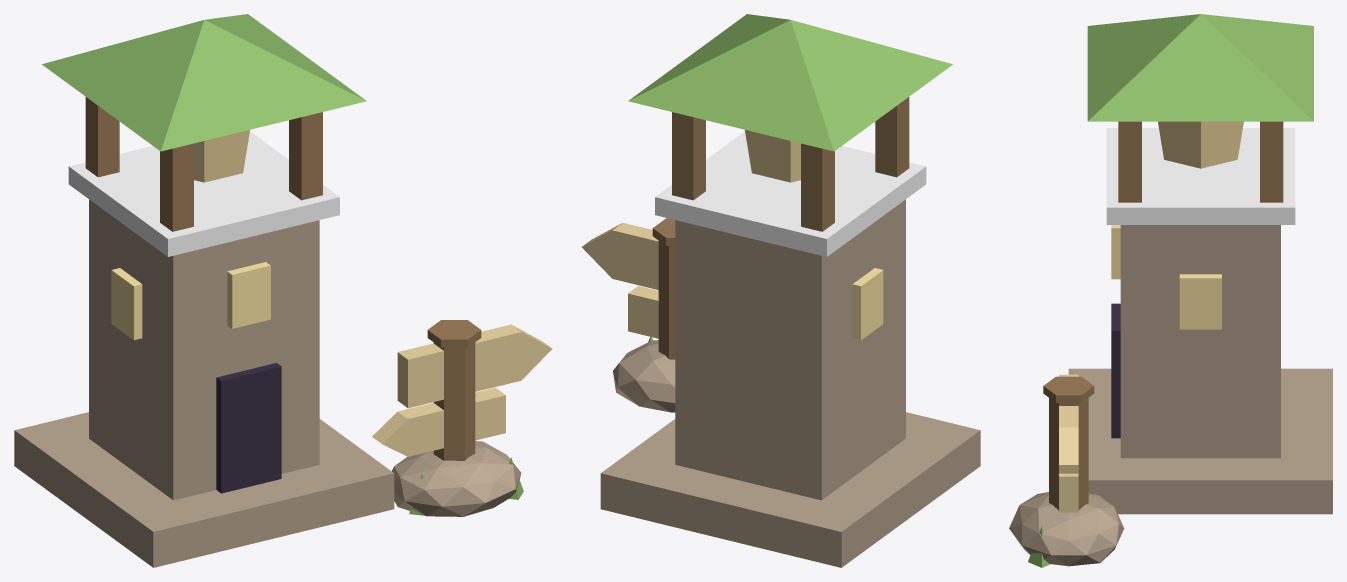
Rendered from meadow-landmark-s2c.glb.
The picture shows the model from 3 angles, left to right: view 1: azimuth 30°, elevation 25°; view 2: azimuth 150°, elevation 25°; view 3: azimuth 270°, elevation 25°; orthographic projection. The views are drawn at different scales.
Visible parts, largest first — view 1: meadow-landmark-s2c; view 2: meadow-landmark-s2c; view 3: meadow-landmark-s2c.
Boxes of the visible parts, x1,y1,x2,y2 form: meadow-landmark-s2c: [14, 14, 552, 567]; meadow-landmark-s2c: [582, 14, 980, 567]; meadow-landmark-s2c: [1009, 14, 1332, 567].
Bounding box in the file's own units: 0.916 × 1.04 × 0.6868.
